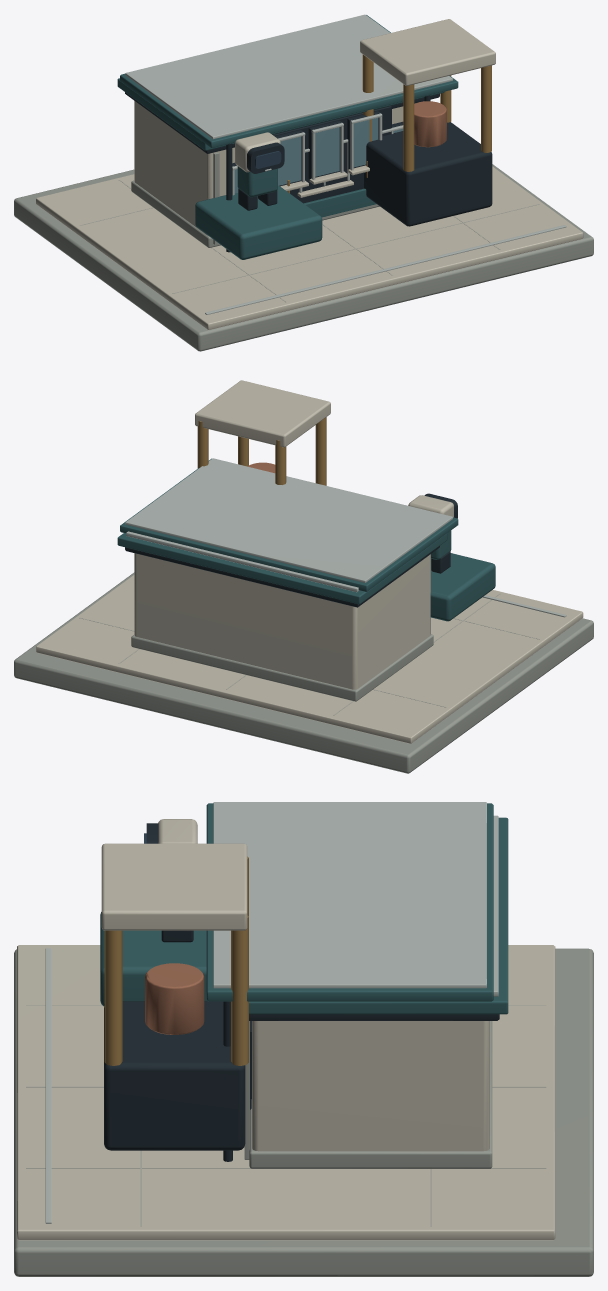
Rendered from idea-36c54ce2.glb.
3 views of the same model, one above another, from view 1: azimuth 30°, elevation 25°; view 2: azimuth 150°, elevation 25°; view 3: azimuth 270°, elevation 25° (orthographic). The views are drawn at different scales.
Parts seen in each view (by area): view 1: Local AI Workshop / Maker Bay; view 2: Local AI Workshop / Maker Bay; view 3: Local AI Workshop / Maker Bay.
Part boxes in pixels (bbox=[...]): Local AI Workshop / Maker Bay: bbox=[14, 14, 593, 351]; Local AI Workshop / Maker Bay: bbox=[14, 380, 593, 773]; Local AI Workshop / Maker Bay: bbox=[14, 802, 593, 1276].
Bounding box in the file's own units: 4.8 × 2.33 × 3.9.
